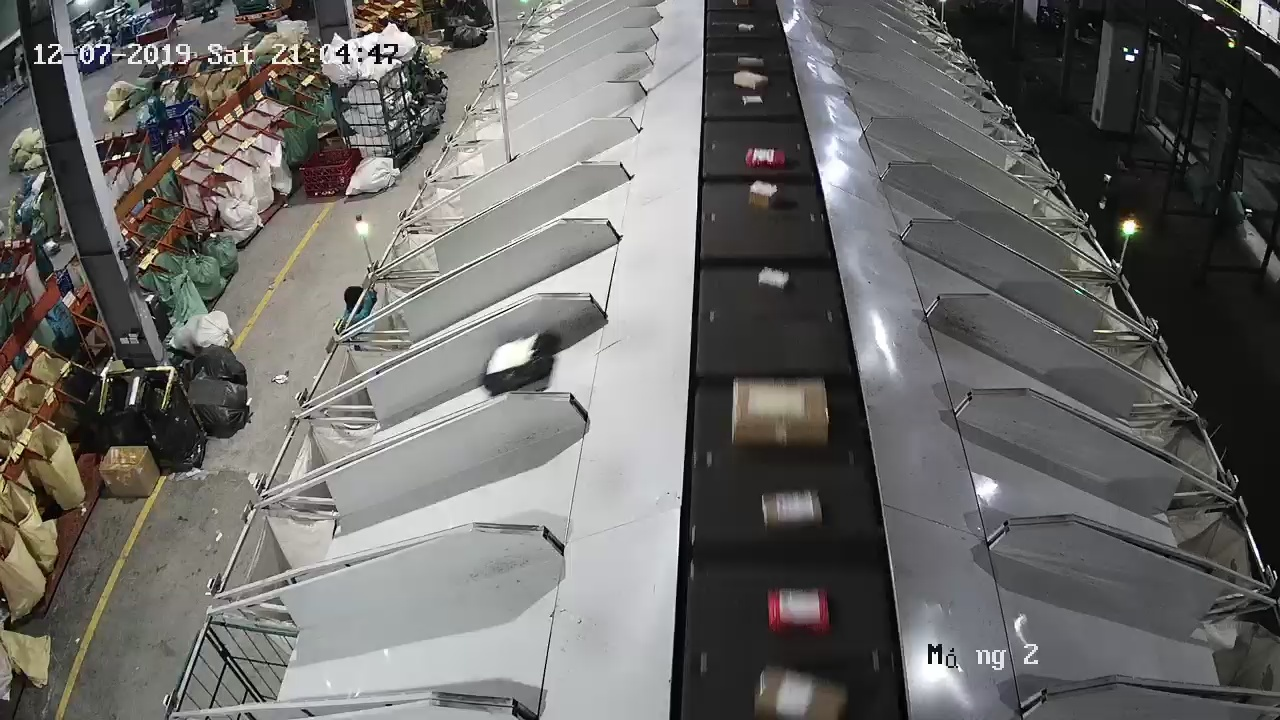parcel: (480, 331, 552, 397)
